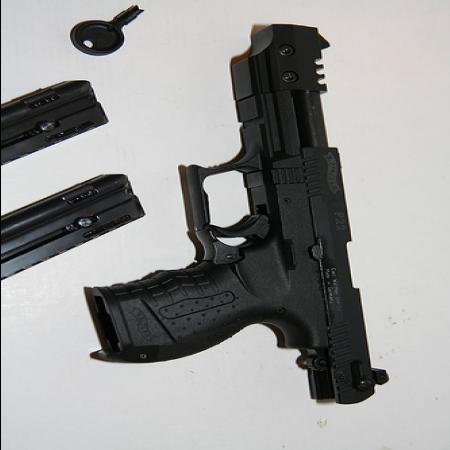Pistol: (81, 22, 391, 404)
